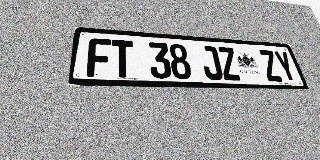3: (149, 42, 172, 79)
8: (168, 43, 192, 79)
F: (86, 38, 111, 77)
J: (199, 45, 224, 80)
T: (111, 39, 134, 78)
Y: (273, 51, 299, 82)
Z: (258, 49, 284, 82), (217, 47, 242, 81)
